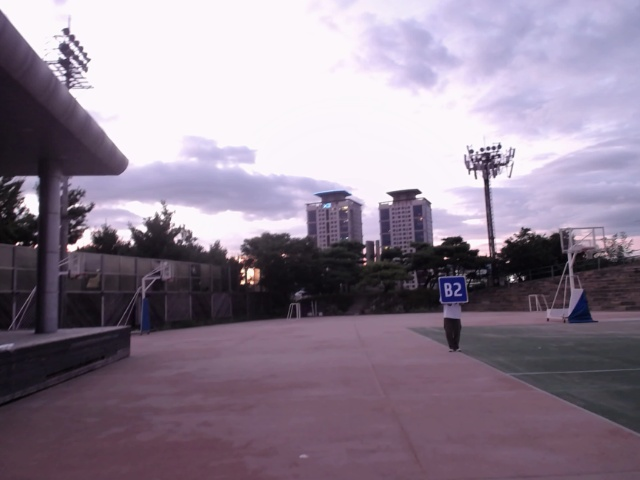delivery_b2: (436, 274, 470, 304)
